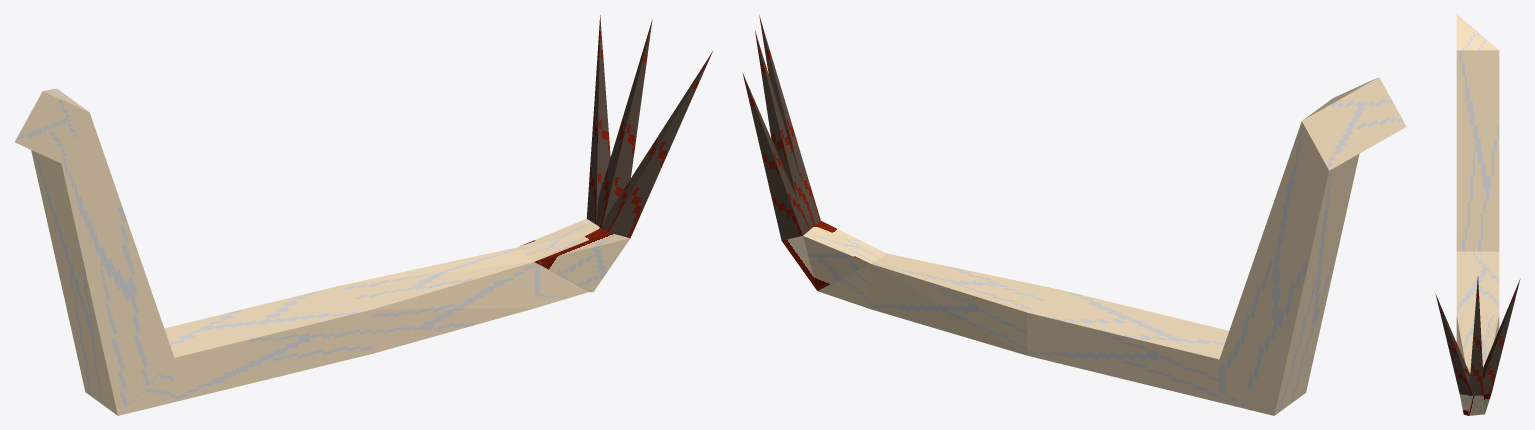
Rendered from arm.glb.
The picture shows the model from 3 angles, left to right: view 1: azimuth 30°, elevation 25°; view 2: azimuth 150°, elevation 25°; view 3: azimuth 270°, elevation 25°; orthographic projection. The views are drawn at different scales.
Visible parts, largest first — view 1: Mesh_0.005; view 2: Mesh_0.005; view 3: Mesh_0.005.
Part boxes in pixels (left/top/right/bottom): Mesh_0.005: left=15, top=15, right=712, bottom=415; Mesh_0.005: left=742, top=15, right=1406, bottom=415; Mesh_0.005: left=1435, top=14, right=1520, bottom=415.
Size of the model in its own units: 12.08 by 5.8 by 2.
Materials: 1 (1 with a texture image).
